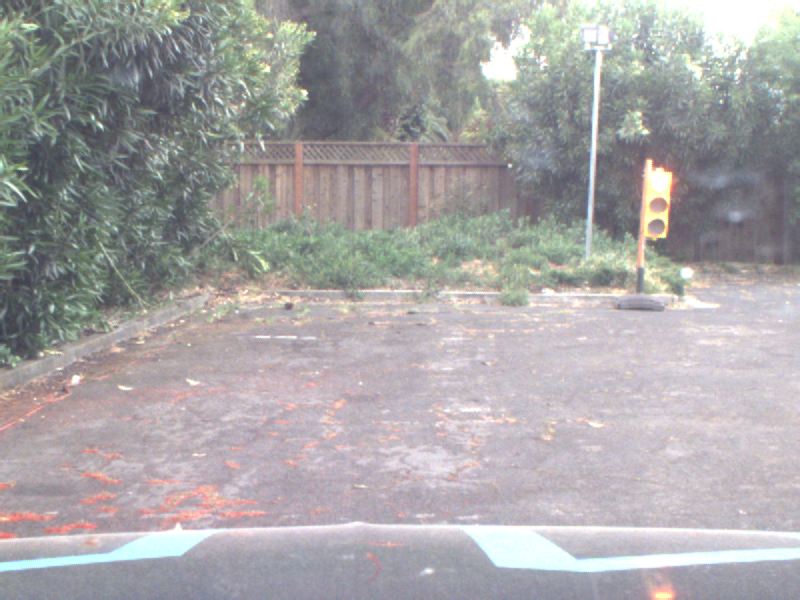Red: (645, 168, 668, 240)
